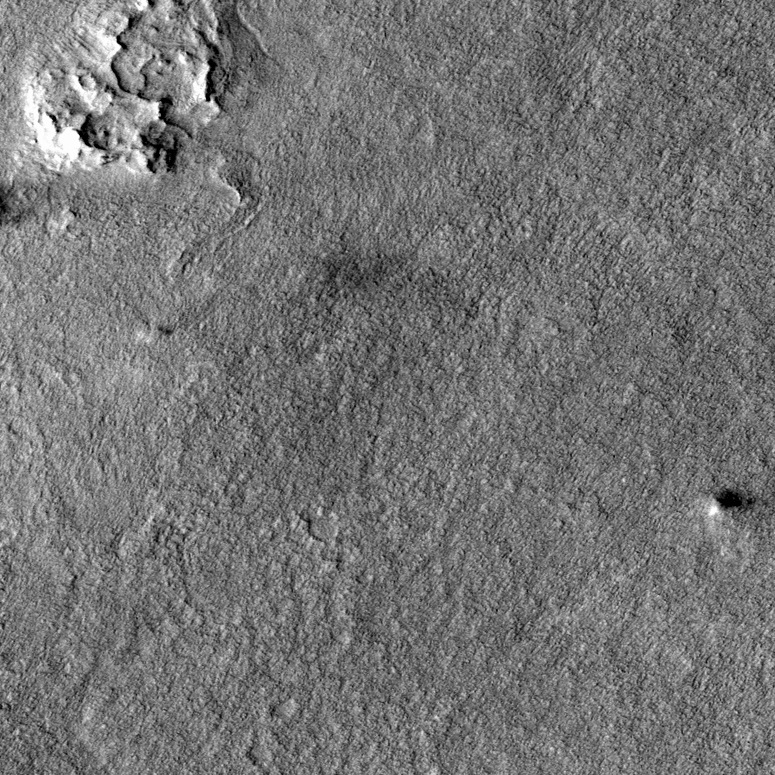dust_devil: (707, 485, 757, 519)
